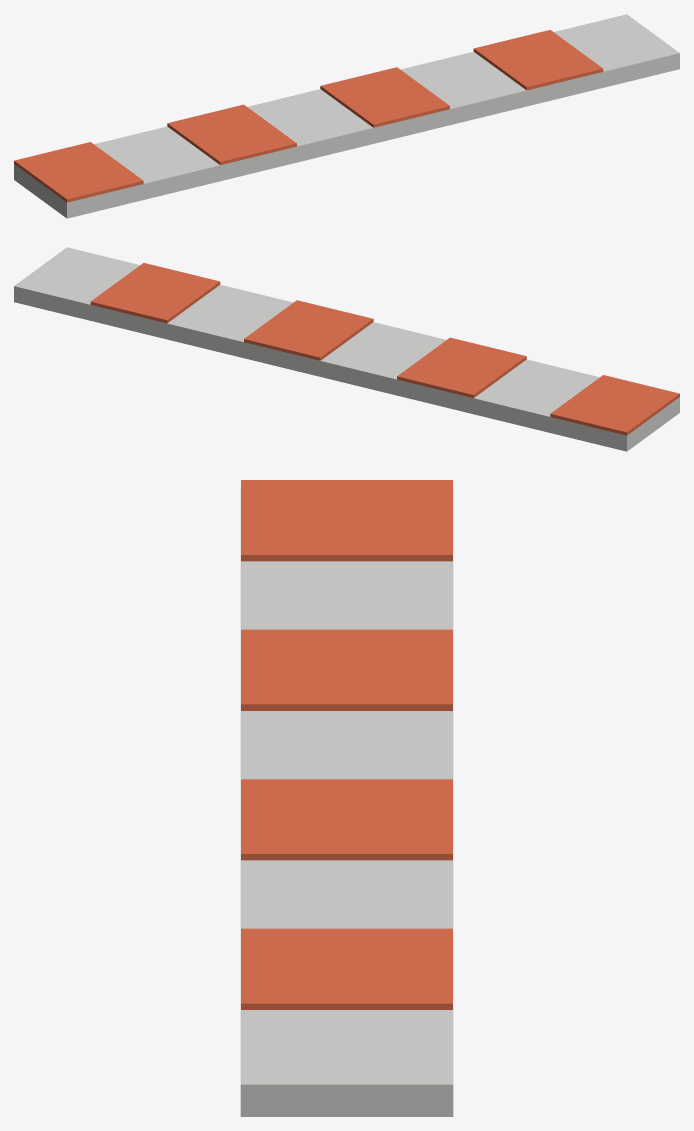
Rendered from motorcycle-racing-and-street-bikes-kerb-strip-9b7e0f9a__15450.glb.
3 renders of one model, top to bottom at view 1: azimuth 30°, elevation 25°; view 2: azimuth 150°, elevation 25°; view 3: azimuth 270°, elevation 25°, orthographic. The views are drawn at different scales.
Visible parts, largest first — view 1: kerb-strip; view 2: kerb-strip; view 3: kerb-strip.
Boxes of the visible parts, x1,y1,x2,y2 form: kerb-strip: [14, 14, 679, 218]; kerb-strip: [14, 247, 679, 451]; kerb-strip: [240, 480, 453, 1116].
Size of the model in its own units: 4 by 0.1201 by 0.6001.
